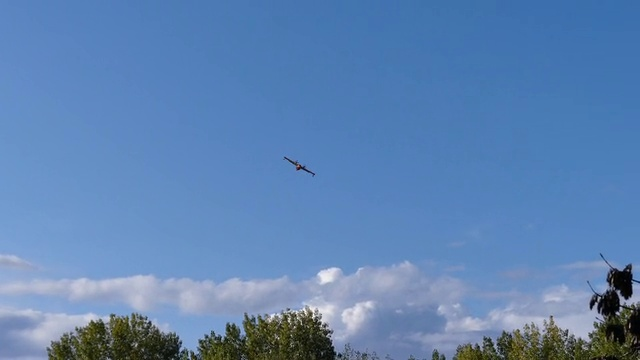plane: (284, 154, 316, 176)
